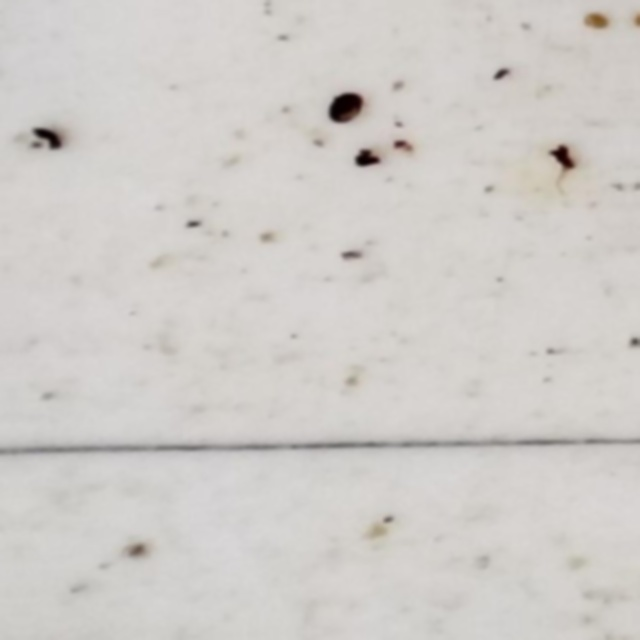varroa: (324, 88, 363, 126)
